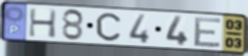4: (164, 14, 191, 48), (127, 12, 151, 45)
8: (61, 8, 86, 42)
C: (95, 12, 123, 43)
E: (193, 17, 224, 49)
H: (28, 7, 59, 40)
